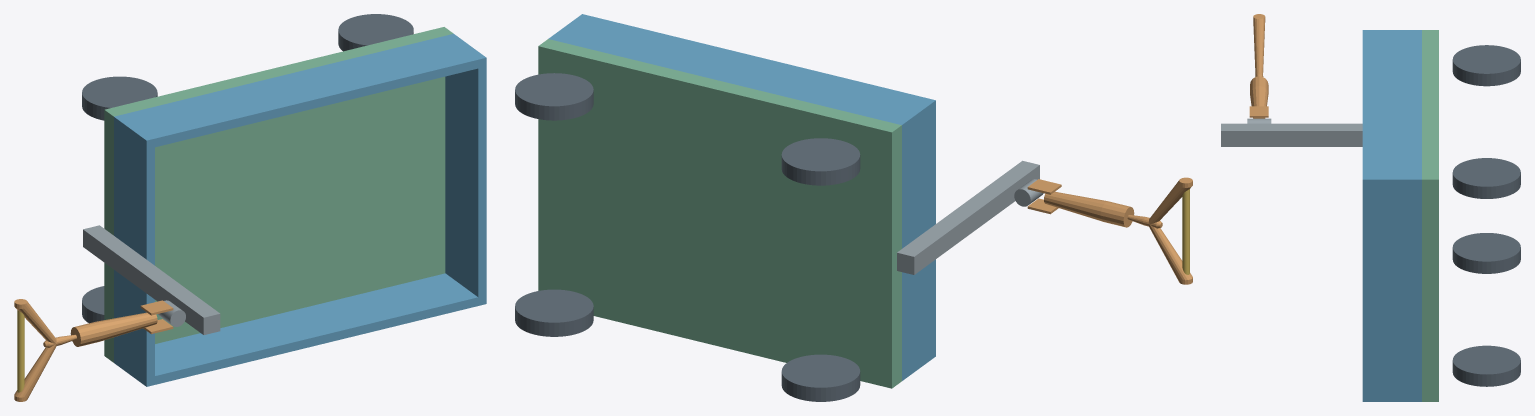
Rendered from cart_collision.glb.
3 views of the same model, side by side, from view 1: azimuth 30°, elevation 25°; view 2: azimuth 150°, elevation 25°; view 3: azimuth 270°, elevation 25° (orthographic). The views are drawn at different scales.
Visible parts, largest first — view 1: cart_deck_frame, cart_side_left, cart_side_right, cart_end_rear, cart_end_front, cart_mast, cart_wheel_80_190, cart_wheel_570_190, cart_drawbar, cart_wheel_80_-190, cart_bite_yoke_right, cart_bite_yoke_left (+1 smaller); view 2: cart_deck_frame, cart_side_left, cart_end_front, cart_mast, cart_wheel_80_-190, cart_wheel_80_190, cart_wheel_570_190, cart_wheel_570_-190, cart_drawbar, cart_bite_yoke_right, cart_bite_yoke_left, cart_bite_bar; view 3: cart_end_rear, cart_side_left, cart_deck_frame, cart_mast, cart_wheel_570_-190, cart_wheel_80_190, cart_wheel_80_-190, cart_wheel_570_190, cart_bite_yoke_left, cart_drawbar, cart_side_right.
Part boxes in pixels (x1,y1,x2,y2): cart_deck_frame: (104,27,453,362); cart_side_left: (114,33,486,149); cart_side_right: (114,273,486,386); cart_end_rear: (445,66,486,297); cart_end_front: (114,126,154,377); cart_mast: (83,225,220,334); cart_wheel_80_190: (82,76,157,120); cart_wheel_570_190: (338,14,413,51); cart_drawbar: (70,312,157,346); cart_wheel_80_-190: (82,286,104,323); cart_bite_yoke_right: (14,344,56,401); cart_bite_yoke_left: (14,299,56,343); cart_deck_frame: (538,39,901,388); cart_side_left: (548,14,935,133); cart_end_front: (902,109,935,371); cart_mast: (897,160,1039,274); cart_wheel_80_-190: (781,354,860,401); cart_wheel_80_190: (781,138,860,185); cart_wheel_570_190: (515,73,593,120); cart_wheel_570_-190: (515,289,593,336); cart_drawbar: (1044,191,1134,227); cart_bite_yoke_right: (1149,225,1192,284); cart_bite_yoke_left: (1149,177,1192,224); cart_bite_bar: (1182,189,1189,274); cart_end_rear: (1362,187,1421,393); cart_side_left: (1362,30,1421,187); cart_deck_frame: (1422,30,1438,401); cart_mast: (1221,123,1362,146); cart_wheel_570_-190: (1452,345,1520,386); cart_wheel_80_190: (1452,45,1520,86); cart_wheel_80_-190: (1452,233,1520,273); cart_wheel_570_190: (1452,158,1520,198); cart_bite_yoke_left: (1253,14,1265,74); cart_drawbar: (1250,76,1268,118); cart_side_right: (1362,394,1421,401).
Bounding box in the file's own units: 1.01 × 0.45 × 0.55.
